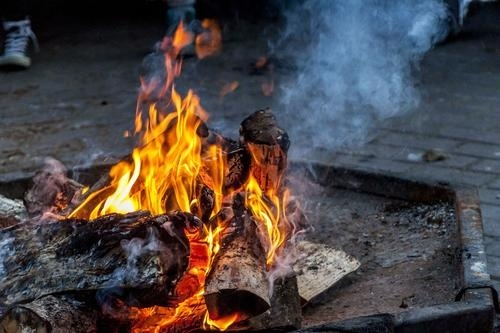fire: (54, 18, 272, 226), (234, 171, 289, 263)
